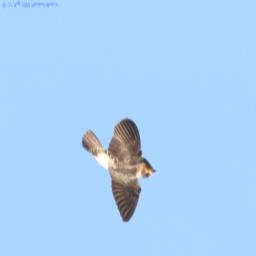Swallow: (80, 117, 159, 224)
